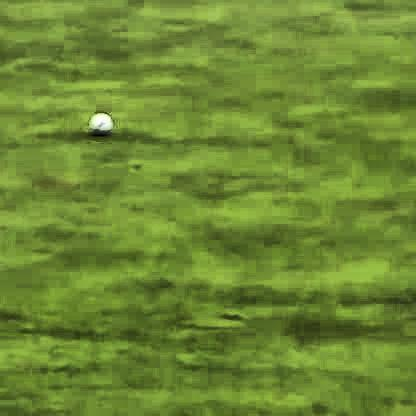golfball: (86, 108, 111, 133)
